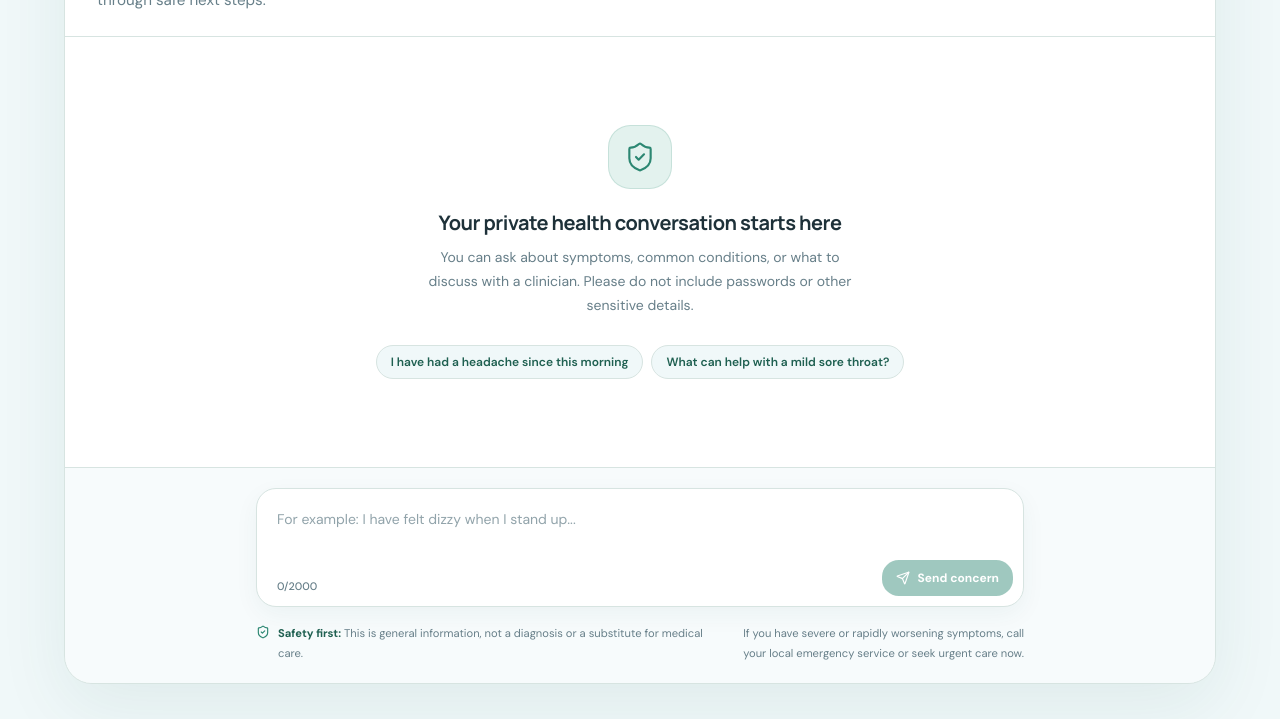
Scenario: new health assistant features › reads one assistant message aloud and clears the conversation
(page scrolled)
Type "I have a mild fever" into the text box with test id "input-health-concern" at (640, 544), box [265,497,1015,591]
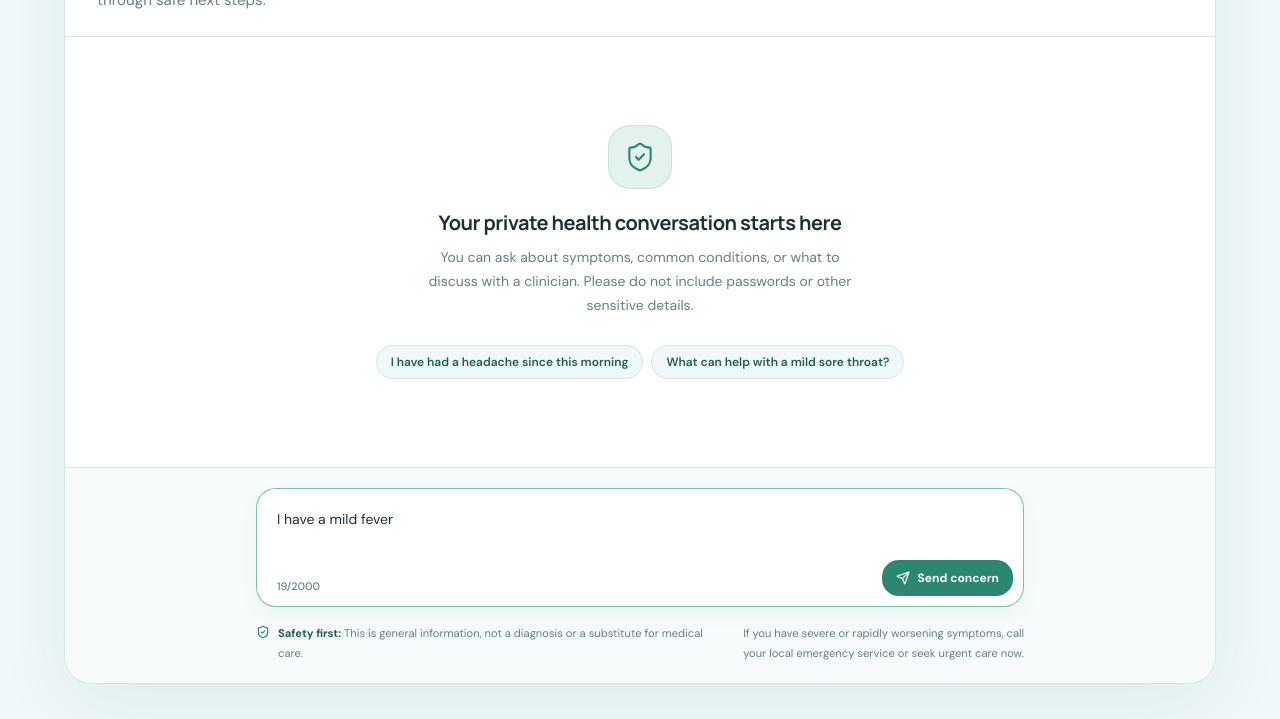
Click the button with test id "button-send-chat" at (947, 578), box [882,560,1013,596]
(page scrolled)
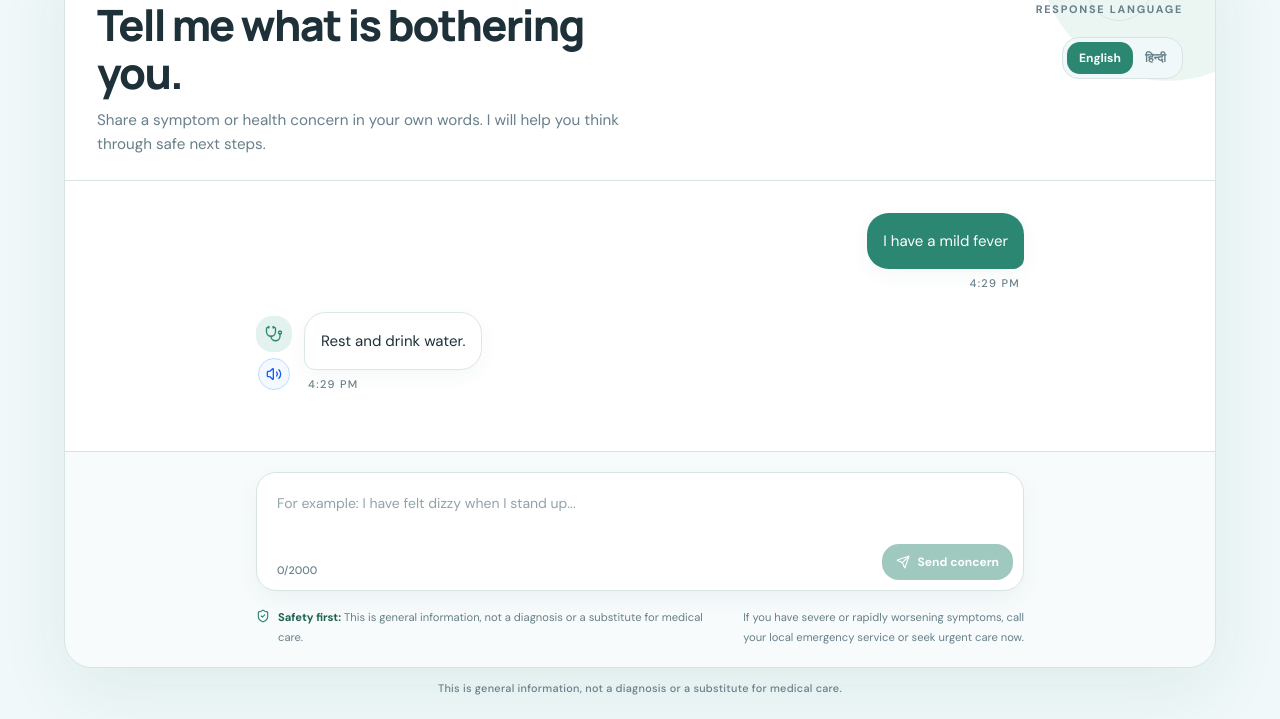
Check: the text "Rest and drink water." is shown, box [321,327,466,355]
Click the button named "Read this response aloud" at (274, 374), box [258,358,290,390]
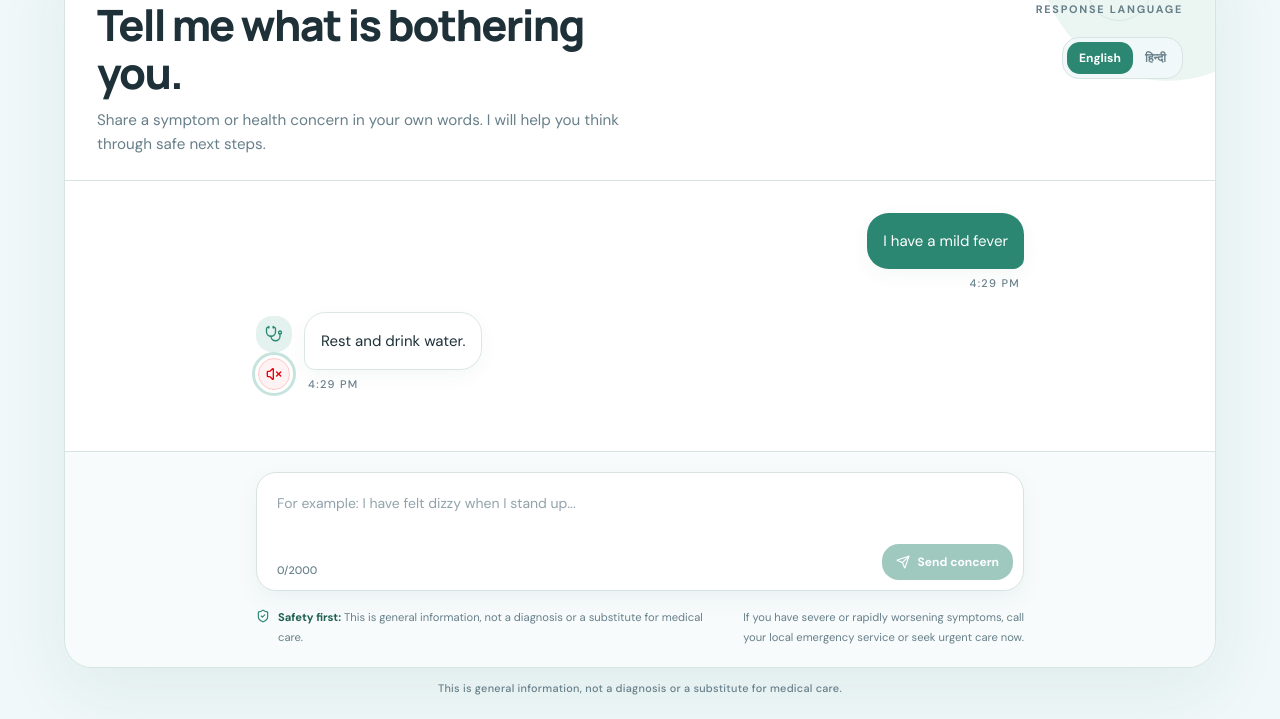
Click the button named "Stop reading this response" at (274, 374), box [258,358,290,390]
(page scrolled)
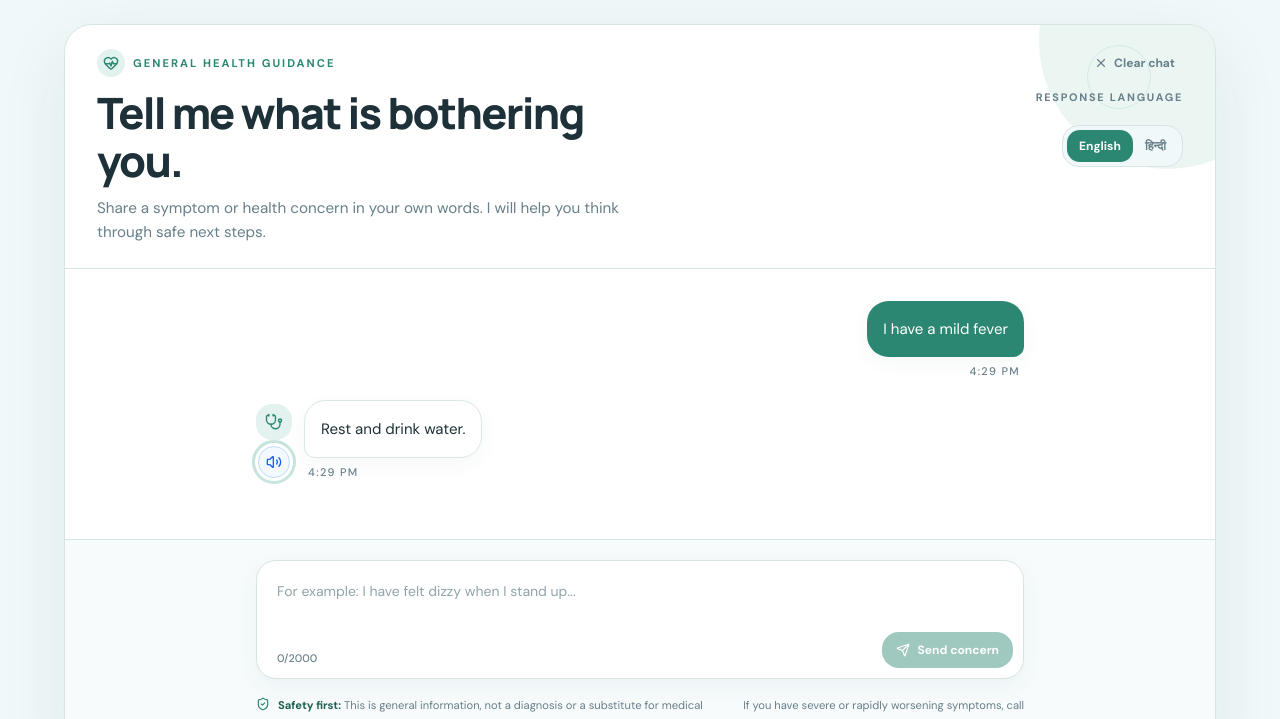
Click the button with test id "button-clear-chat" at (1135, 63), box [1086,49,1183,77]
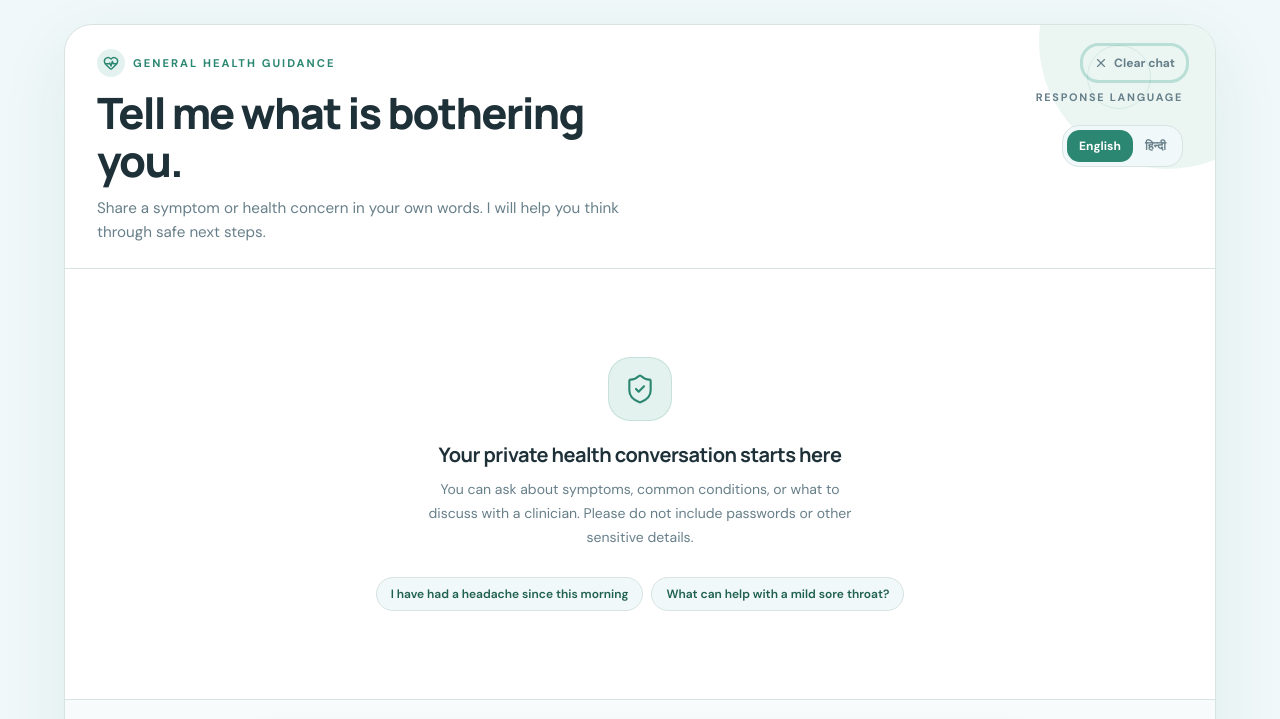
Check: the element with test id "empty-chat-state" is shown, box [352,301,928,667]
